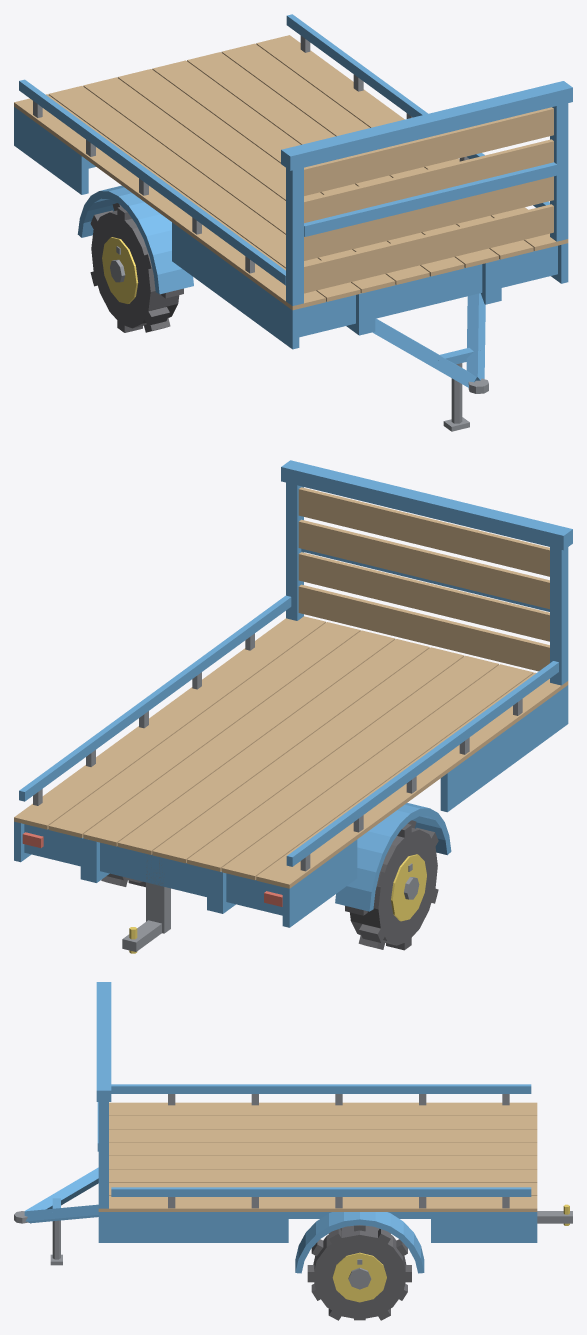
Rendered from baletrailer.glb.
The picture shows the model from 3 angles, top to bottom: view 1: azimuth 30°, elevation 25°; view 2: azimuth 150°, elevation 25°; view 3: azimuth 270°, elevation 25°; orthographic projection. The views are drawn at different scales.
Visible parts, largest first — view 1: planks, head_planks, head_rails, sills, cross_members, head_posts, rail_R, tyre_R, fender_R, rail_L, beams, tongue_R (+5 smaller); view 2: planks, head_planks, sills, head_rails, cross_members, rail_L, rail_R, head_posts, tyre_R, fender_R, beams, rim_R (+5 smaller); view 3: planks, sills, tyre_L, rail_L, rail_R, fender_L, head_rails, rim_L, tread_L, head_posts, tongue_L, tongue_R (+4 smaller).
Boxes of the visible parts, x1,y1,x2,y2 form: planks: (14,35,568,310); head_planks: (304,107,553,293); head_rails: (281,81,572,236); sills: (14,107,568,349); cross_members: (88,161,557,337); head_posts: (286,103,568,305); rail_R: (19,79,285,285); tyre_R: (91,210,179,328); fender_R: (77,185,193,294); rail_L: (286,14,549,207); beams: (346,259,501,335); tongue_R: (372,318,476,387); planks: (14,616,568,888); head_planks: (298,487,549,671); sills: (14,685,568,927); head_rails: (281,460,572,611); cross_members: (24,824,282,915); rail_L: (19,595,291,801); rail_R: (286,661,558,866); head_posts: (286,482,568,685); tyre_R: (350,828,437,945); fender_R: (335,803,451,911); beams: (80,837,235,913); rim_R: (391,854,426,921); planks: (98,1102,537,1211); sills: (98,1212,537,1242); tyre_L: (313,1225,406,1319); rail_L: (111,1187,531,1196); rail_R: (111,1084,531,1093); fender_L: (295,1212,424,1273); head_rails: (96,982,111,1151); rim_L: (332,1252,386,1302); tread_L: (307,1225,411,1320); head_posts: (98,1102,108,1208); tongue_L: (24,1204,98,1223); tongue_R: (25,1167,98,1223).
Size of the model in its own units: 2.59 by 2.46 by 5.35.
